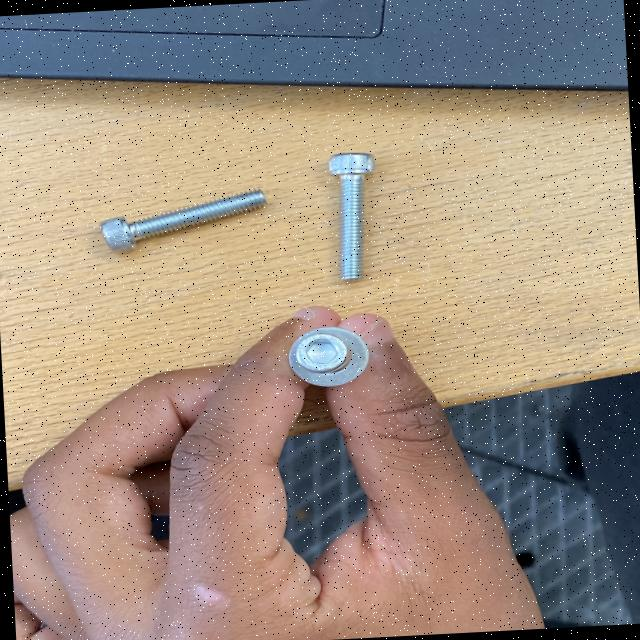Hex Socket Allen: (294, 332, 349, 373)
